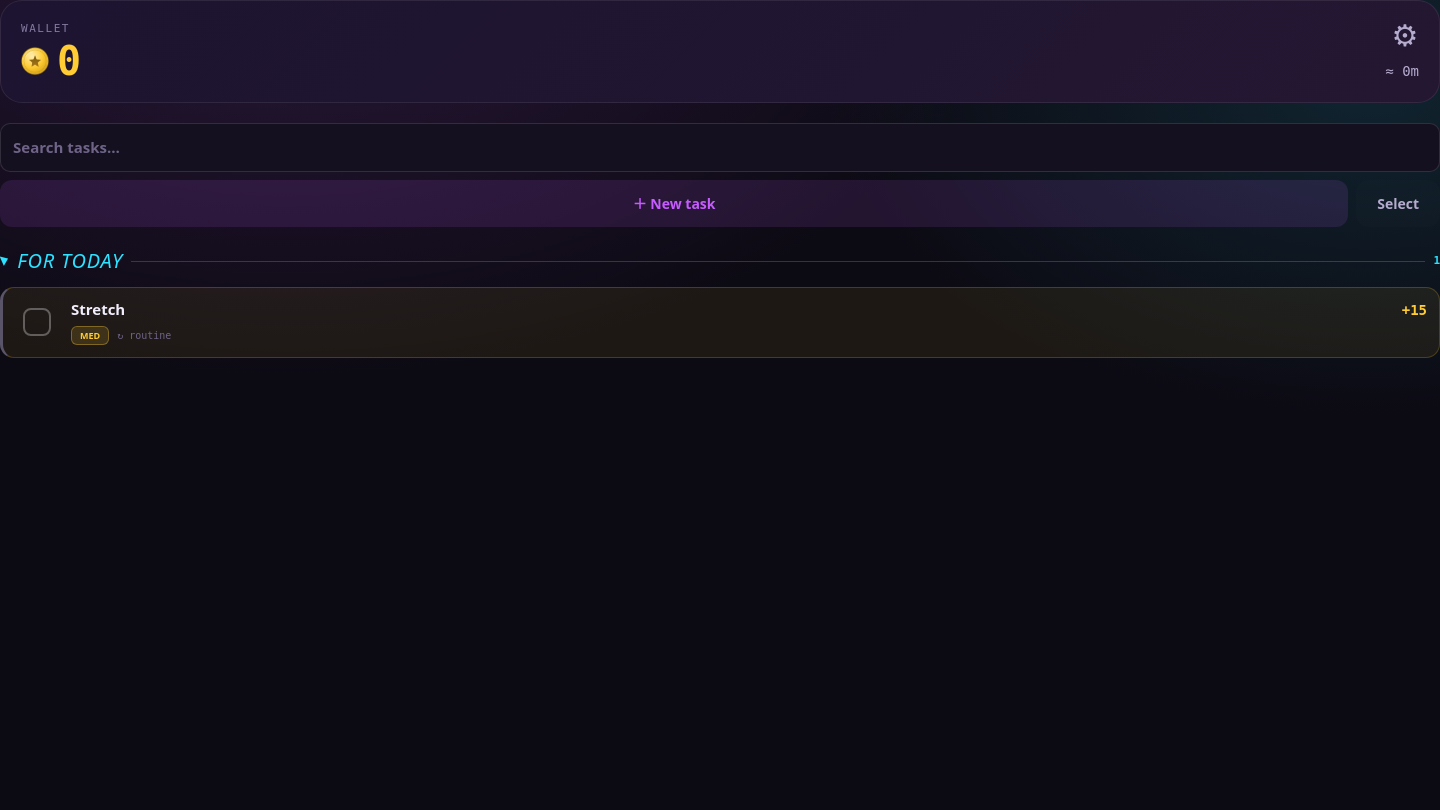
Test: a routine started yesterday › offers Start, not Stop — the button has to agree with the list
Click the button "Stretch" at (98, 309), box x1=71 y1=300 x2=1390 y2=318
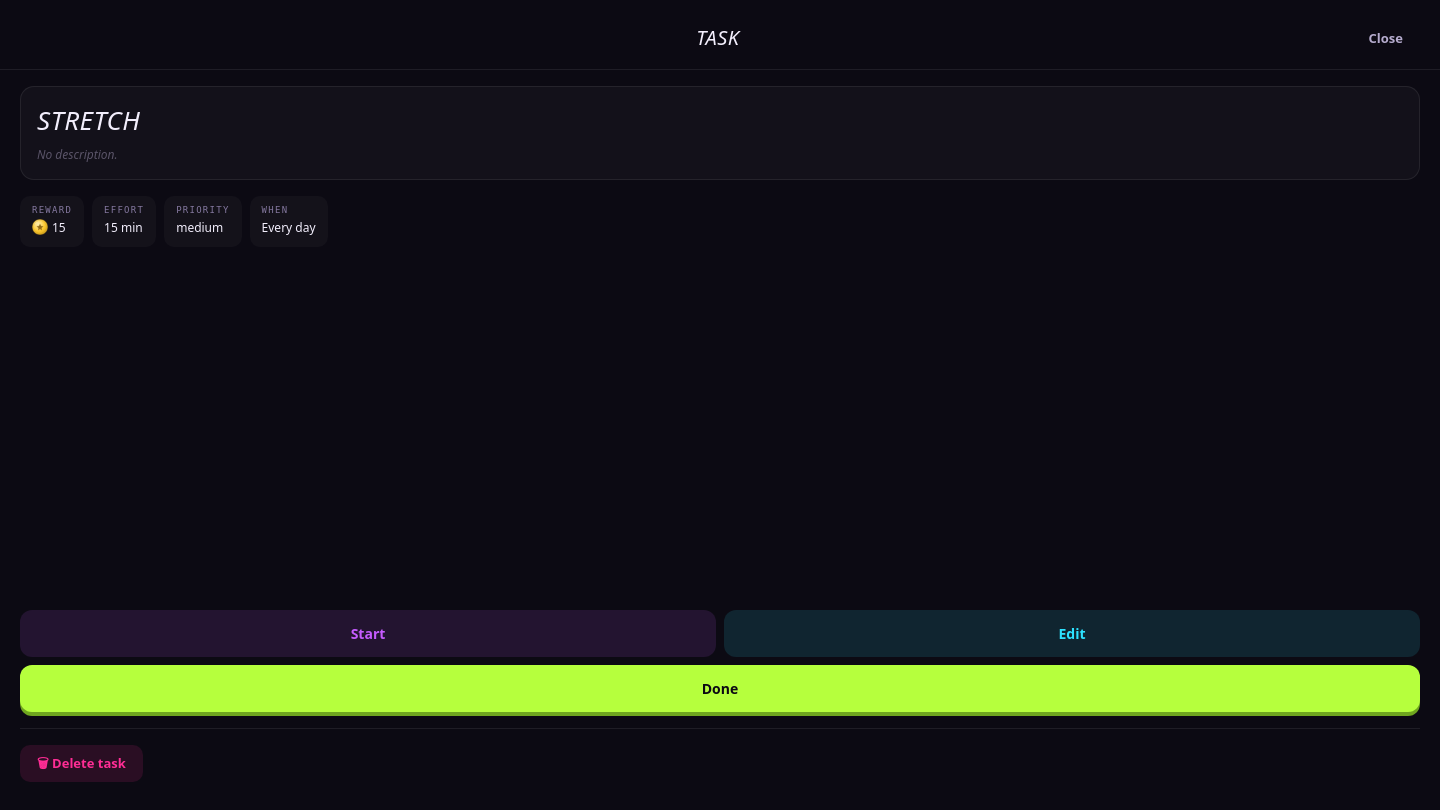
expect the button "Start" is shown: met, box x1=20 y1=610 x2=716 y2=657
